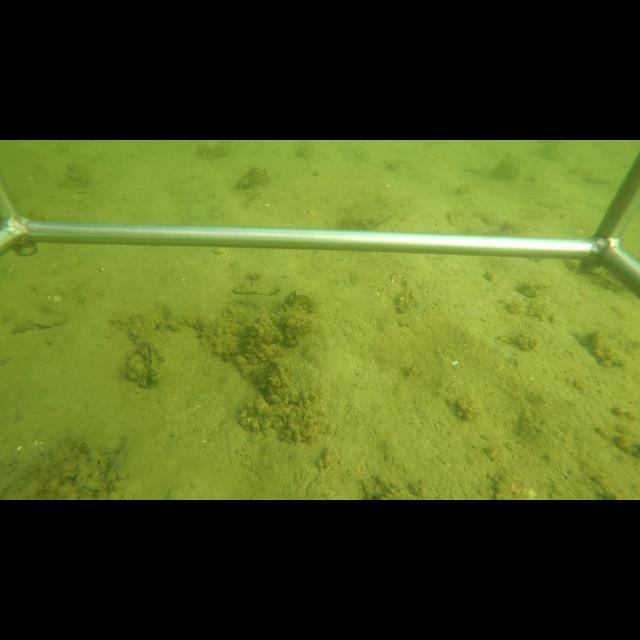Oyster-Closed: (229, 277, 277, 295), (142, 344, 158, 382)
